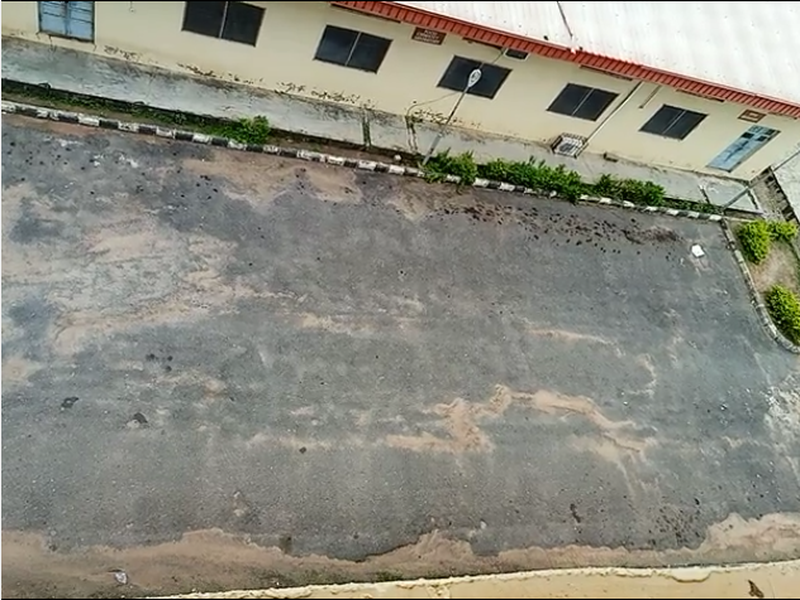five: (643, 174, 761, 355)
four: (490, 163, 581, 342)
one: (1, 85, 134, 309)
three: (324, 142, 437, 340)
two: (165, 113, 276, 317)
